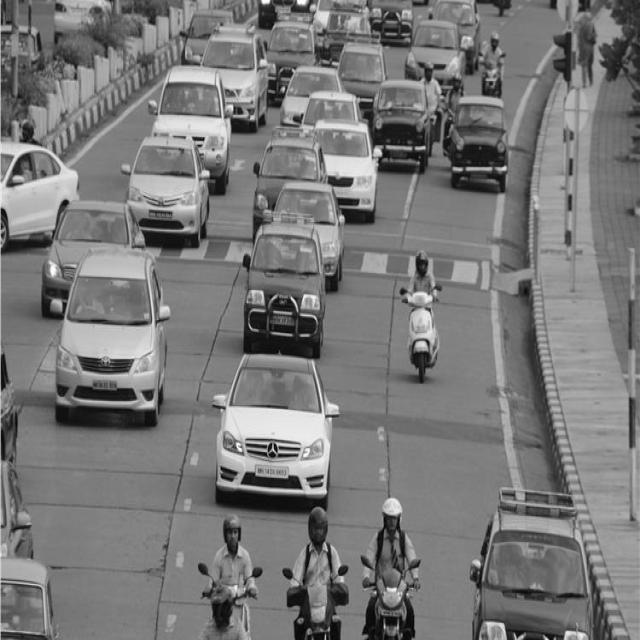bike: (288, 564, 350, 640), (371, 559, 419, 640), (402, 289, 440, 382)
car: (55, 248, 170, 425), (213, 355, 340, 506), (472, 488, 594, 640), (243, 212, 326, 357), (40, 202, 144, 317), (148, 65, 233, 193), (121, 136, 210, 246), (0, 140, 79, 246), (253, 127, 326, 236), (276, 183, 346, 289), (201, 26, 268, 129), (317, 121, 382, 221), (451, 95, 509, 191), (374, 78, 433, 170), (0, 559, 58, 640), (405, 18, 467, 87), (267, 20, 317, 101), (339, 42, 387, 117), (302, 439, 324, 459), (358, 175, 372, 187)
person: (204, 515, 253, 597), (368, 498, 417, 579), (291, 542, 331, 587), (481, 31, 507, 96), (410, 252, 438, 301), (332, 546, 344, 583), (364, 598, 375, 638), (406, 598, 416, 638), (363, 568, 373, 588), (412, 569, 420, 590)
